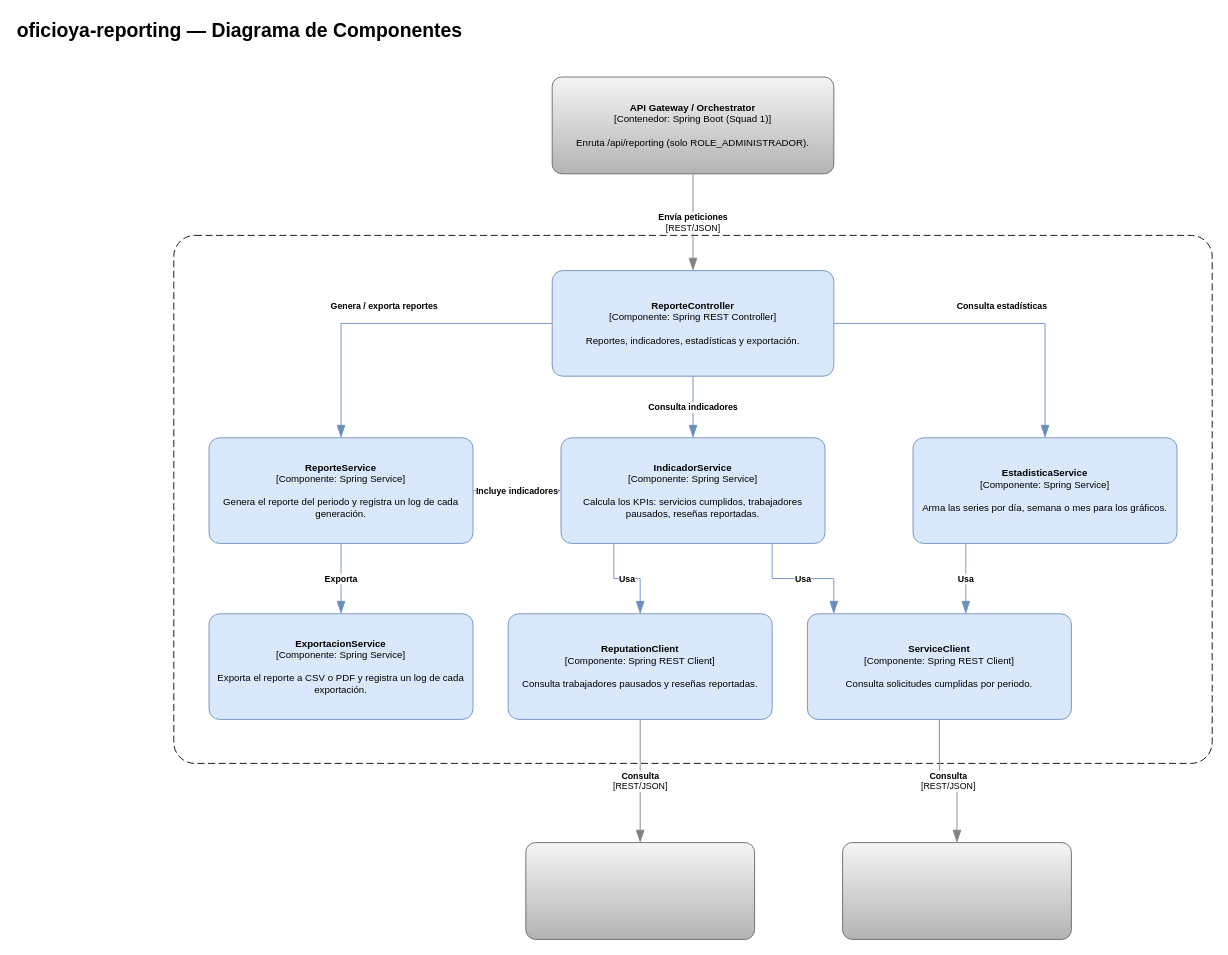
This 1228x955 diagram has some shape labels left out. Each missing label, with the centre of its shape:
oficioya-reputation [Contenedor: Spring Boot (Squad 5)]: the point at 640,890
oficioya-service [Contenedor: Spring Boot (Squad 4)]: the point at 956,890
